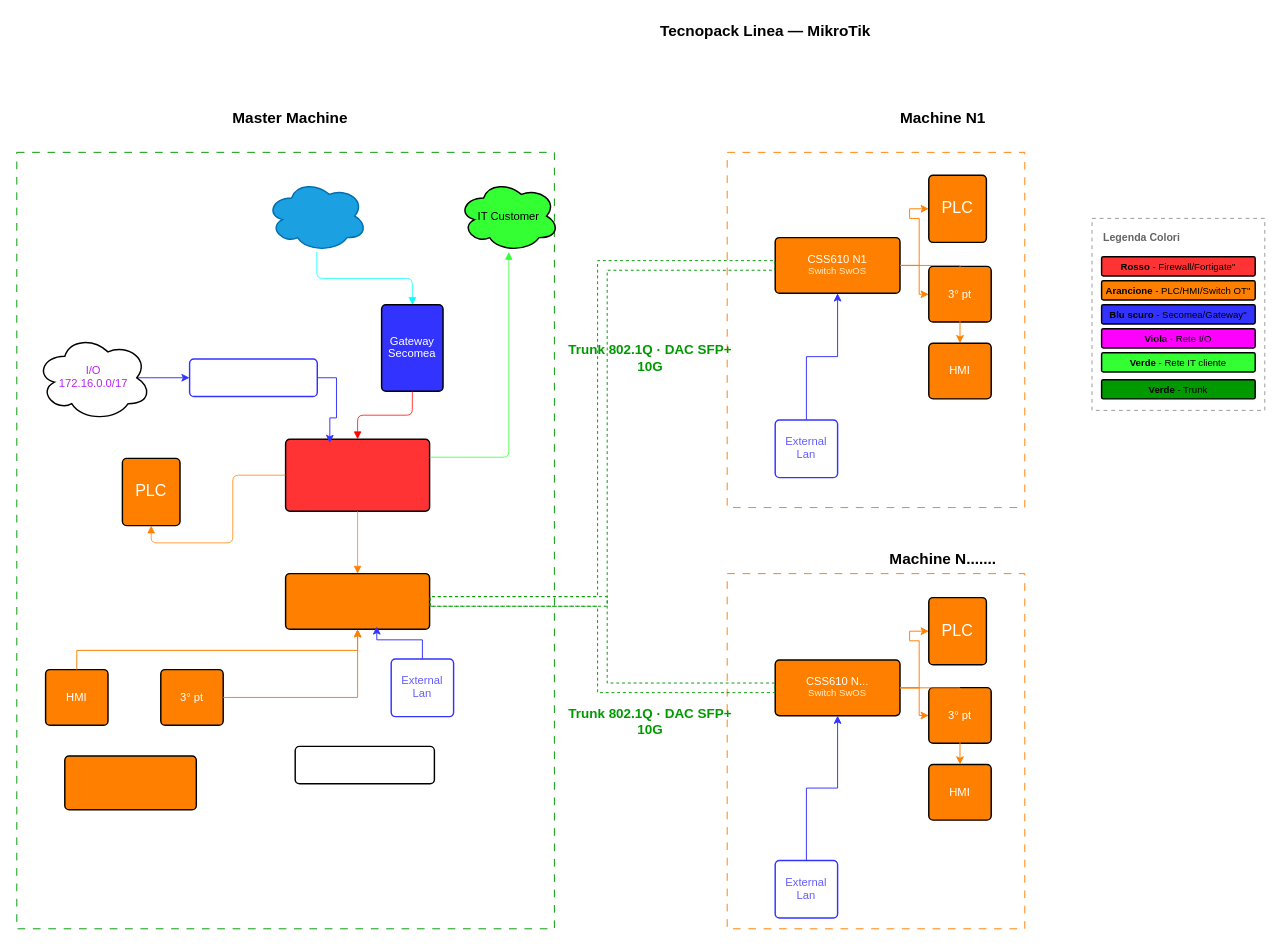
Some shapes in this 1282 by 946 pixel diagram are drawn without their labels. Each missing label, with the box of its shape:
CSS610 Master Switch 802.1Q trunk: (284, 572, 430, 630)
Internet: (265, 179, 367, 252)
MikroTik RB5009 FW · NAT · NTP · RBAC: (284, 438, 430, 511)
Vlan I/O Id 100: (188, 358, 318, 397)
Vlan Manutenzione Id 300 · Captive Portal: (294, 745, 435, 784)
Vlan Supervisor Id 200 172.16.224.0/24: (64, 755, 197, 810)
